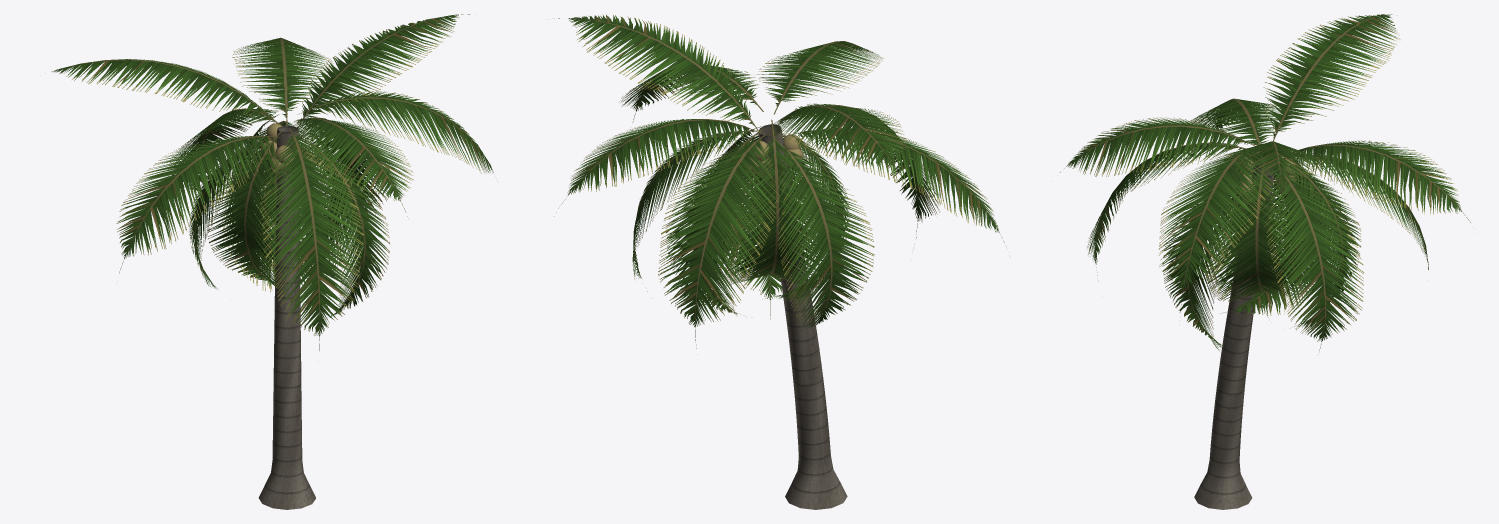
The model's file is palm_short.glb.
3 views of the same model, side by side, from view 1: azimuth 30°, elevation 25°; view 2: azimuth 150°, elevation 25°; view 3: azimuth 270°, elevation 25° (orthographic). The views are drawn at different scales.
Parts seen in each view (by area): view 1: palm_short; view 2: palm_short; view 3: palm_short.
Boxes of the visible parts, x1=… form: palm_short: x1=51, y1=14, x2=493, y2=509; palm_short: x1=554, y1=14, x2=1006, y2=509; palm_short: x1=1060, y1=14, x2=1470, y2=509.
Size of the model in its own units: 6.22 by 5.99 by 5.69.
3 materials, 2 textured.
